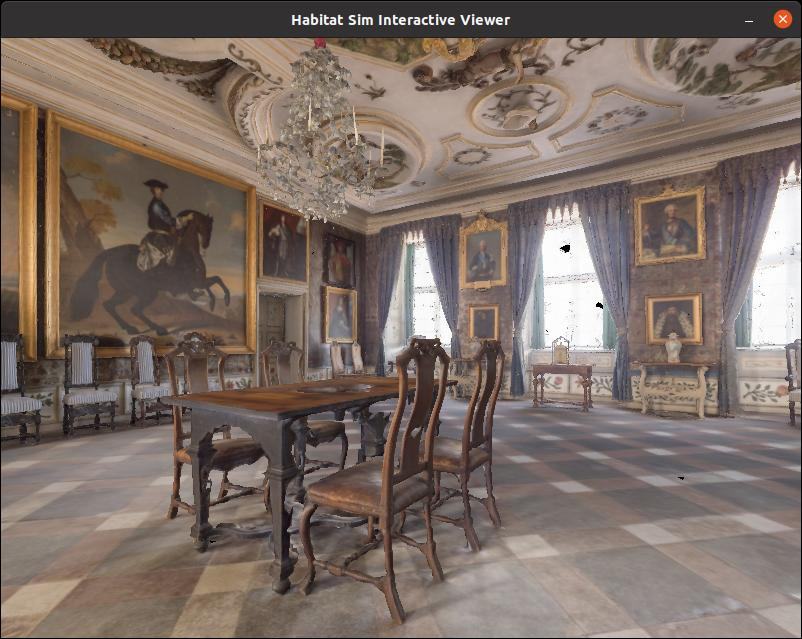chair: (288, 327, 471, 639), (137, 299, 288, 536), (422, 303, 515, 572), (50, 321, 123, 436)
table: (168, 345, 491, 591)
